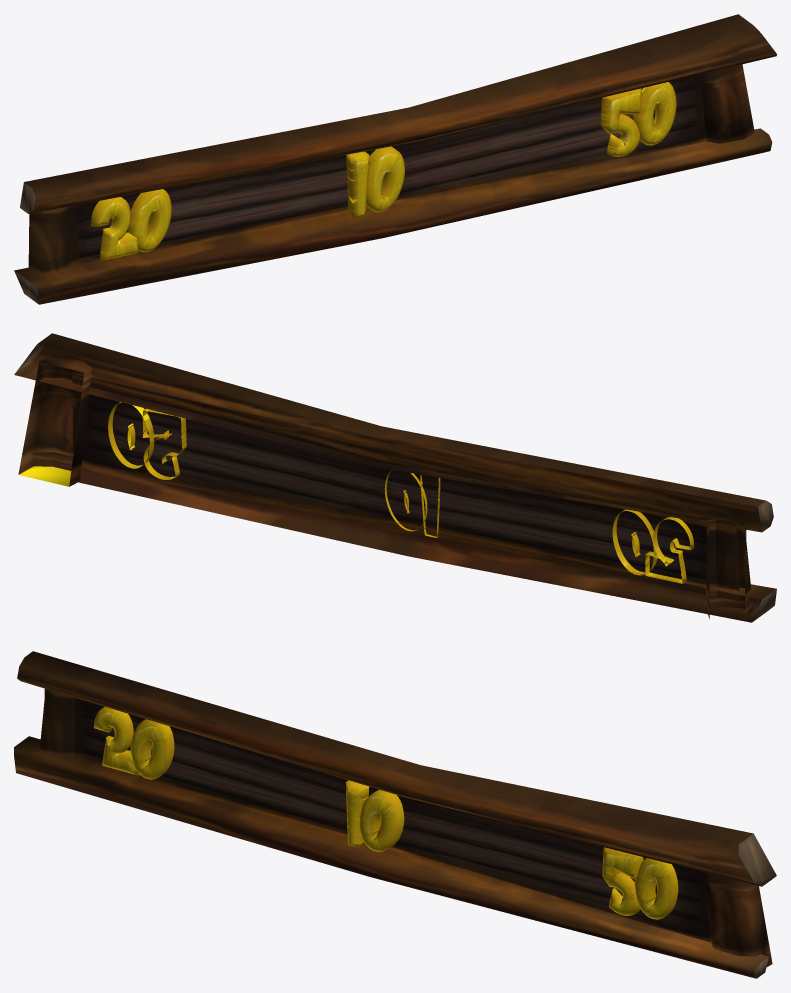
Rendered from Costs.fbx.
3 renders of one model, top to bottom at view 1: azimuth 30°, elevation 25°; view 2: azimuth 150°, elevation 25°; view 3: azimuth 330°, elevation 25°, orthographic.
Visible parts, largest first — view 1: Null; view 2: Null; view 3: Null.
Boxes of the visible parts, x1=… form: Null: x1=14, y1=14, x2=776, y2=304; Null: x1=14, y1=333, x2=776, y2=622; Null: x1=14, y1=651, x2=776, y2=978.
Bounding box in the file's own units: 1093 × 199 × 72.85.
Materials: 1 (1 with a texture image).
